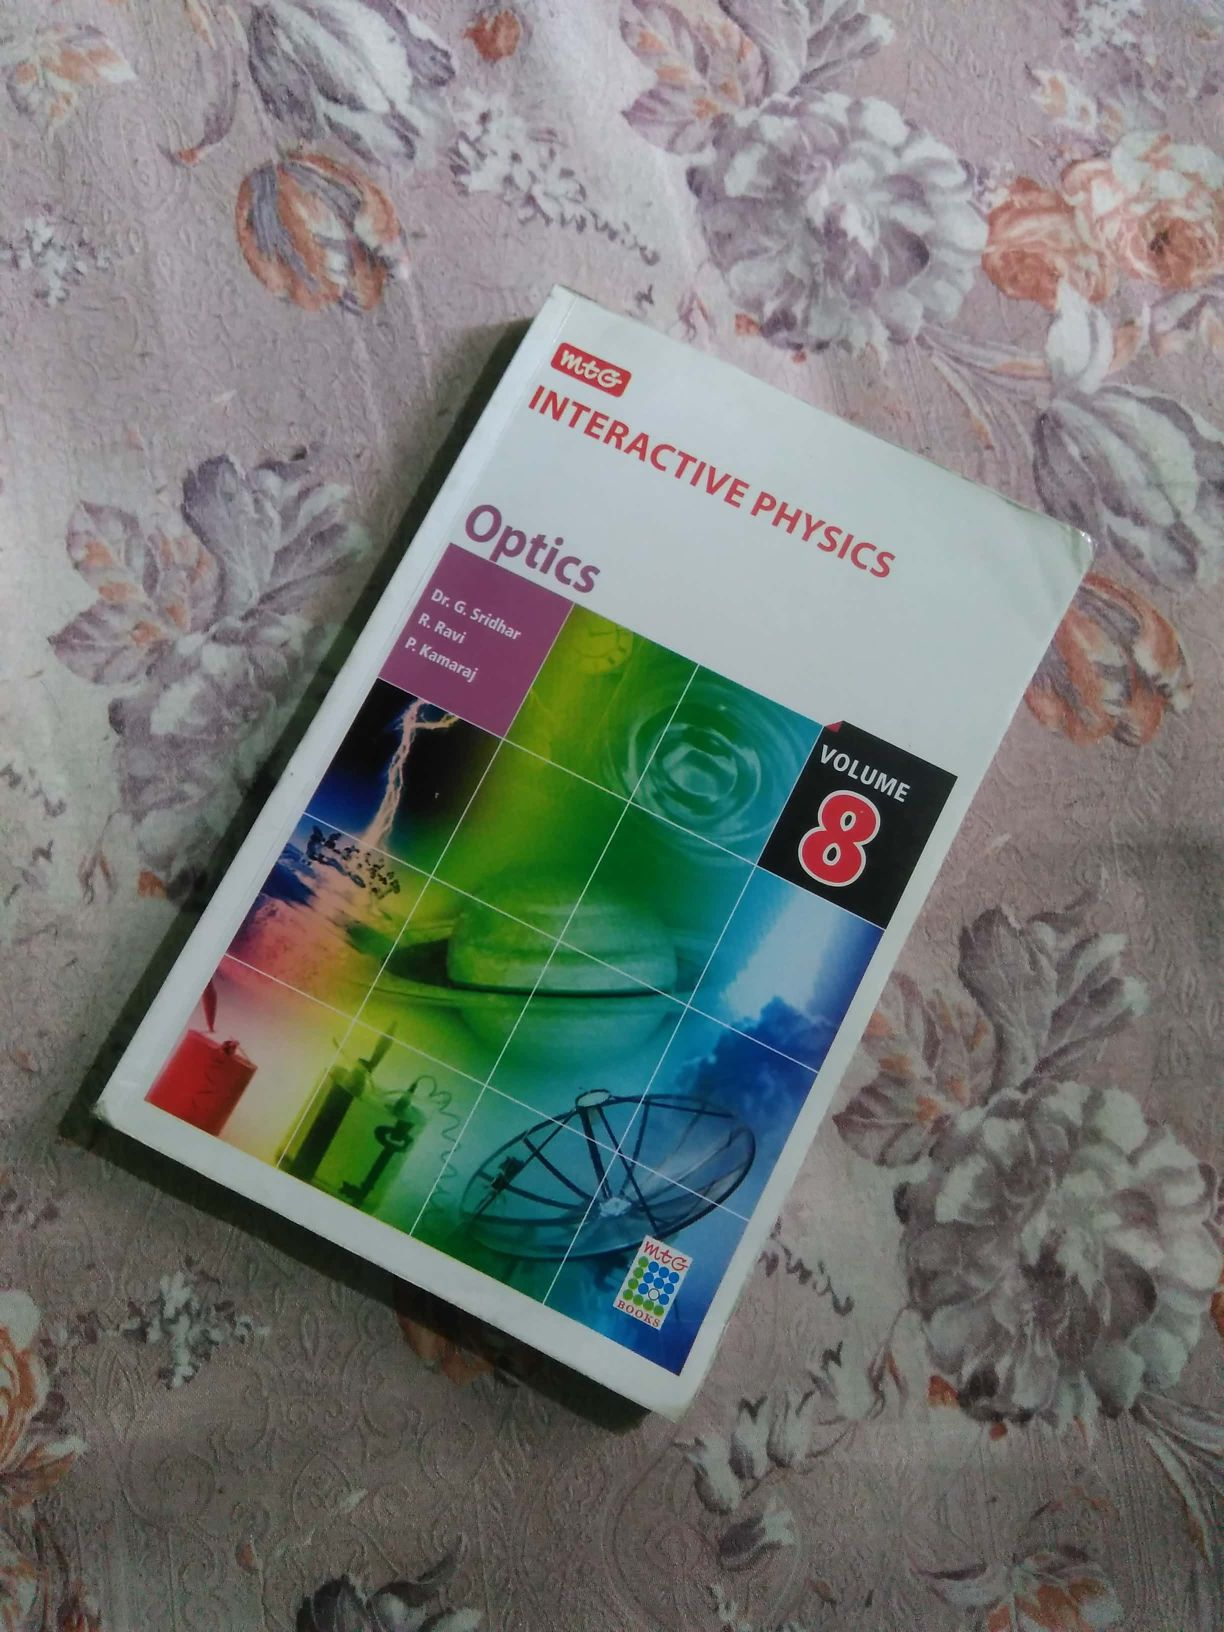optics: (107, 271, 1137, 1407)
